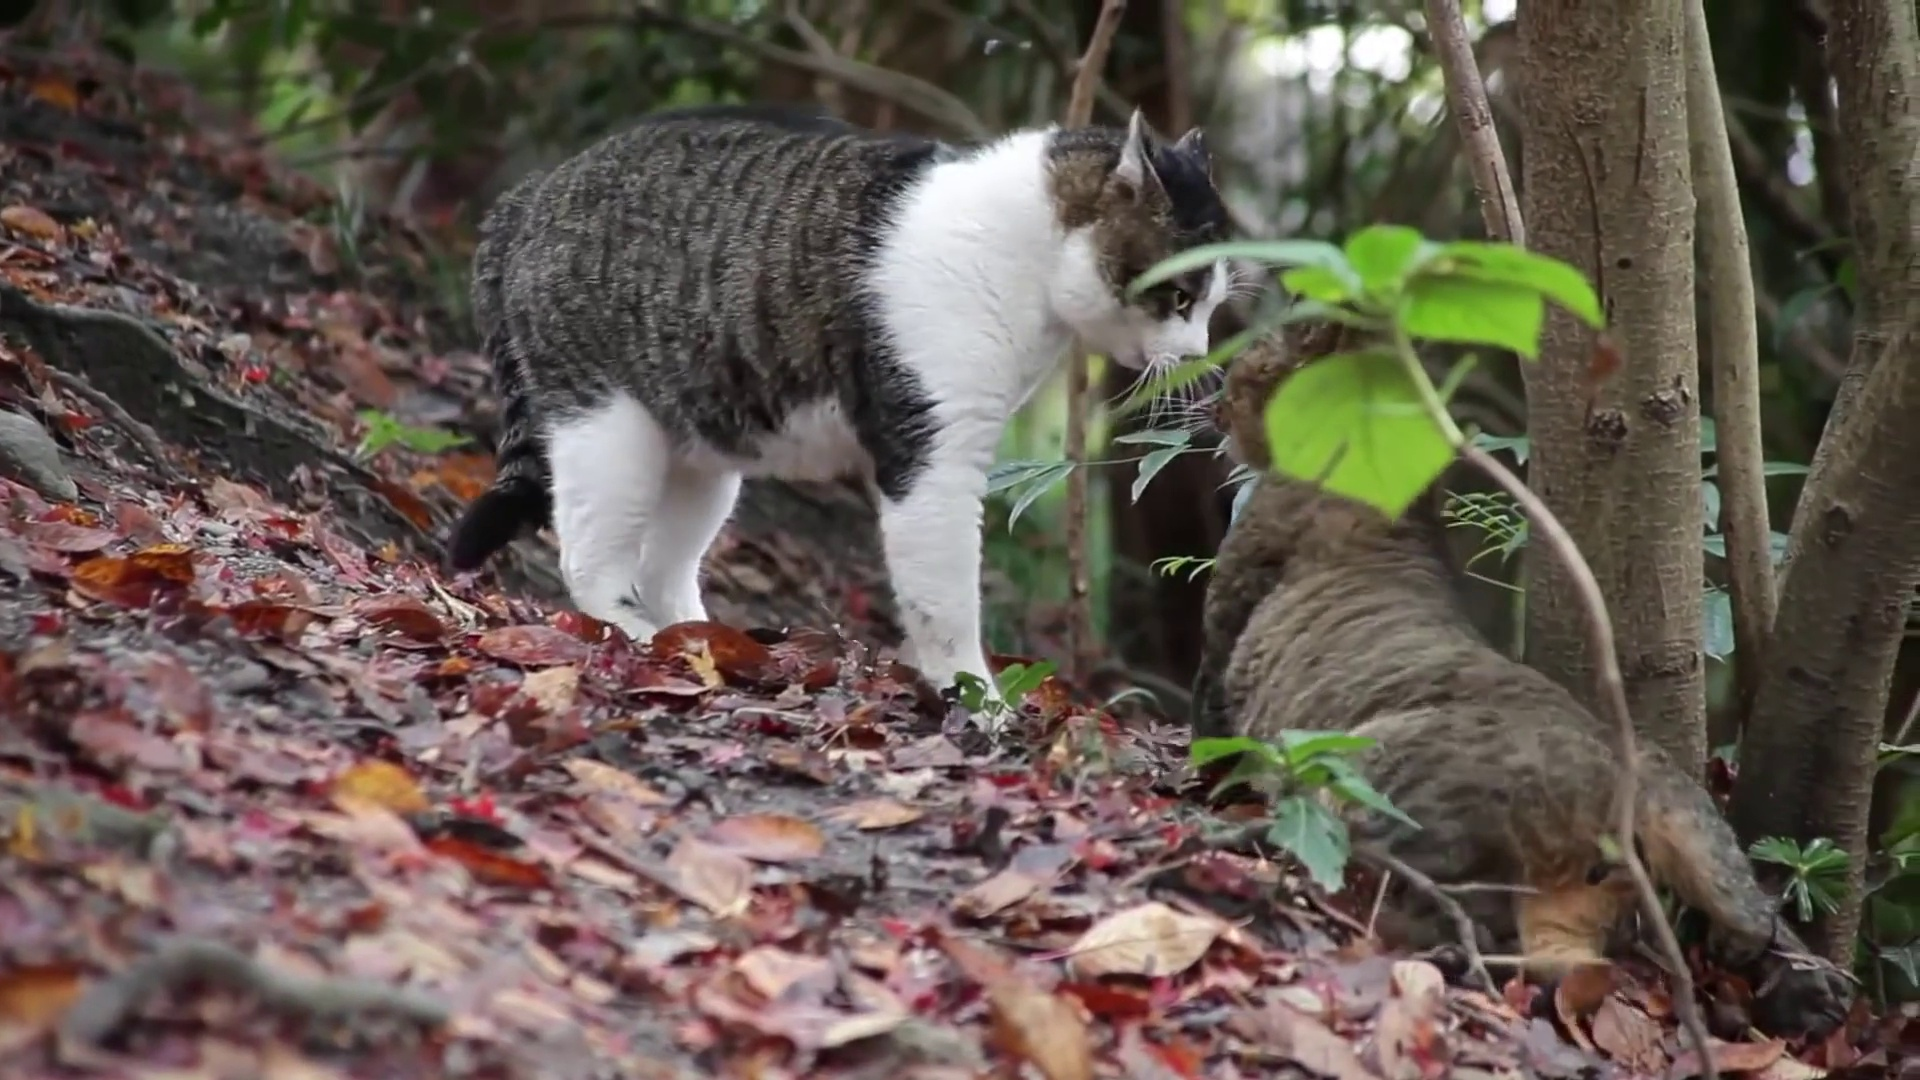black-white: (454, 109, 1230, 742)
pure black: (1201, 310, 1640, 890)
